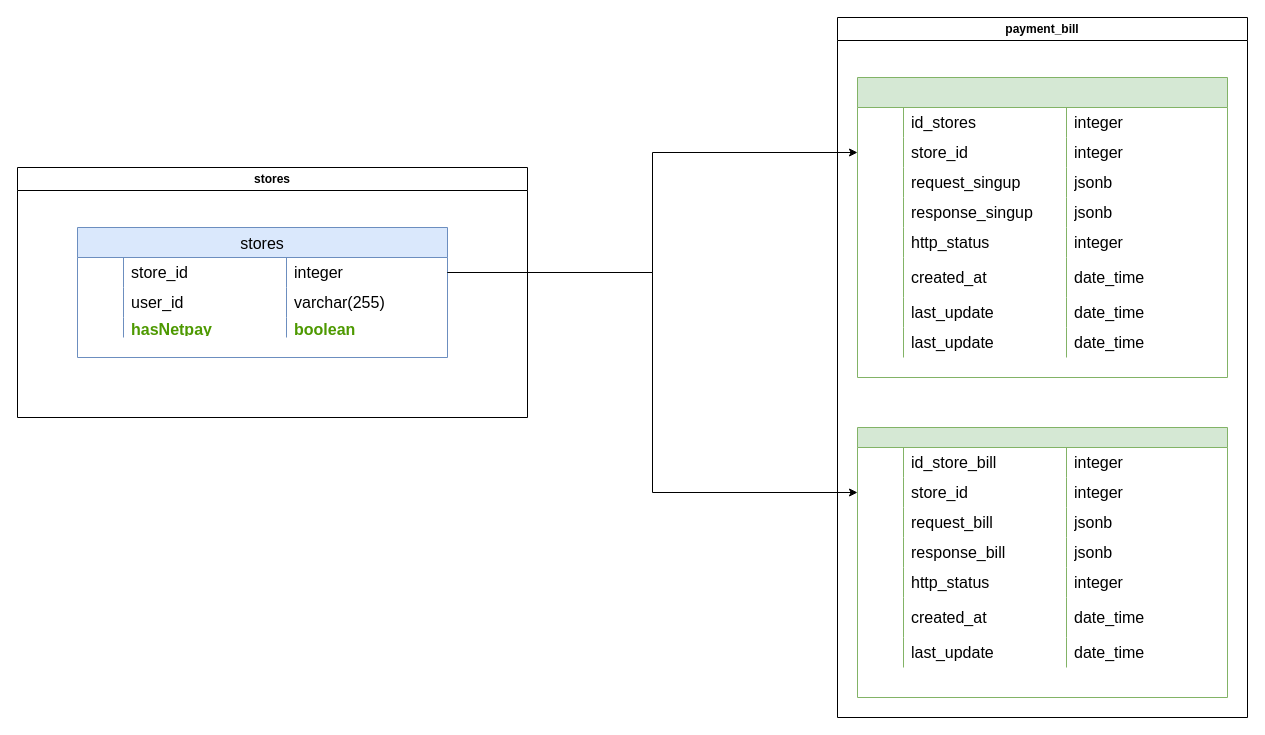
This 1265x735 diagram has some shape labels left out. The box of each missing label's shape, as (x1, y1, x2, y2) in pixels:
tbl_stores_bill: (856, 426, 1228, 698)
tbl_stores_singup: (856, 76, 1228, 378)
